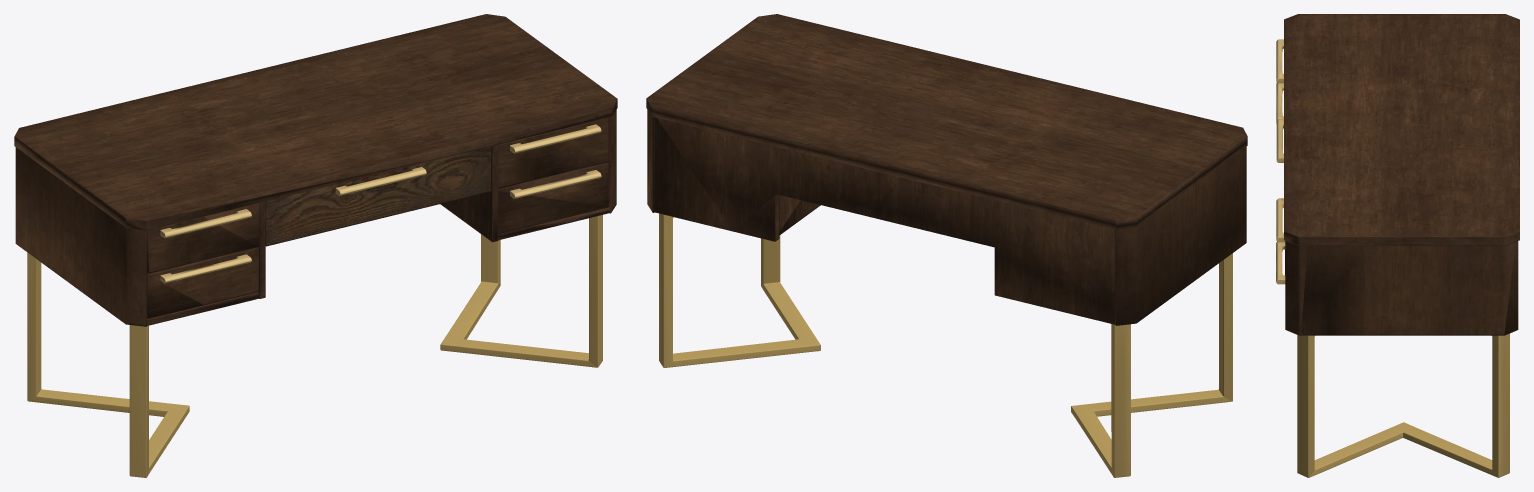
Rendered from B075Z8KXG7.glb.
3 renders of one model, left to right at view 1: azimuth 30°, elevation 25°; view 2: azimuth 150°, elevation 25°; view 3: azimuth 270°, elevation 25°, orthographic. The views are drawn at different scales.
Parts seen in each view (by area): view 1: RootNode; view 2: RootNode; view 3: RootNode.
Part boxes in pixels (left/top/right/bottom): RootNode: left=14, top=14, right=617, bottom=477; RootNode: left=646, top=14, right=1247, bottom=477; RootNode: left=1276, top=14, right=1519, bottom=477.
Bounding box in the file's own units: 1.48 × 0.7615 × 0.6843.
Materials: 1 (1 with a texture image).
